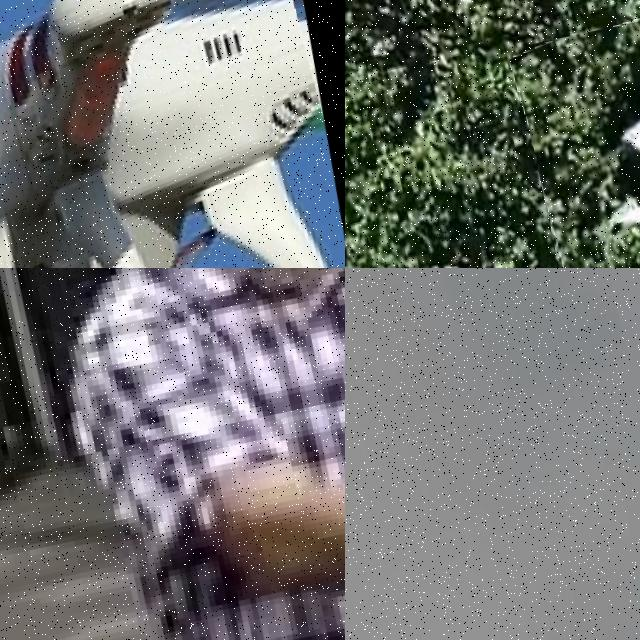drone: (0, 0, 345, 268), (512, 16, 640, 268)
